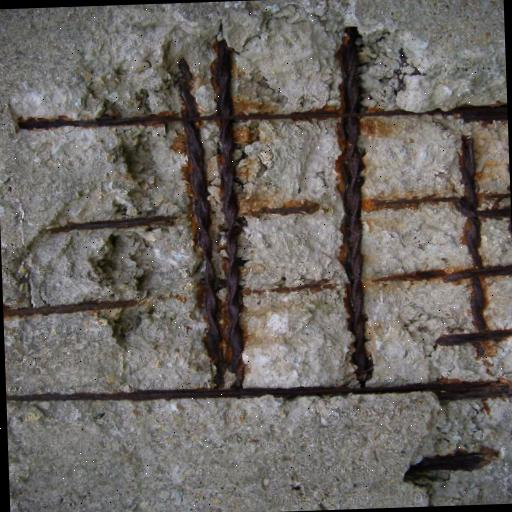spalling: (8, 15, 512, 503)
